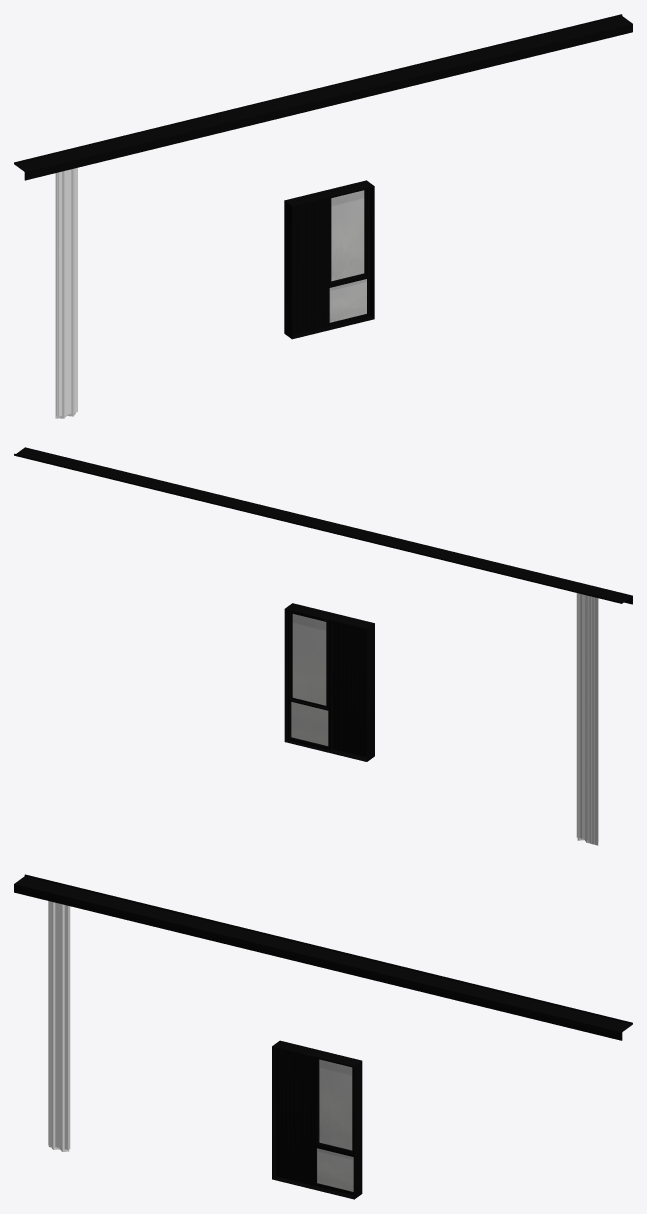
File: MatrixFachada copy.glb
3 views of the same model, one above another, from view 1: azimuth 30°, elevation 25°; view 2: azimuth 150°, elevation 25°; view 3: azimuth 330°, elevation 25° (orthographic).
Visible parts, largest first — view 1: Box006, Ventana2, Lamas2, Marco2, matriz2_j, matrix1_4, matriz2_i, matriz2_l; view 2: Box006, Ventana2, Lamas2, Marco2, matriz2_c, matrix1_4, matriz2_e, matrix1_7, matrix1_2, matriz2_j, matrix1_5, matriz2_n; view 3: Box006, Ventana2, Lamas2, Marco2, matriz2_j, matrix1_4, matriz2_i, matriz2_n, matriz2_c.
Boxes of the visible parts, x1=… form: Box006: x1=14, y1=14, x2=632, y2=180; Ventana2: x1=327, y1=187, x2=369, y2=326; Lamas2: x1=293, y1=198, x2=326, y2=335; Marco2: x1=284, y1=180, x2=374, y2=339; matriz2_j: x1=59, y1=167, x2=77, y2=414; matrix1_4: x1=58, y1=168, x2=75, y2=418; matriz2_i: x1=58, y1=170, x2=67, y2=416; matriz2_l: x1=58, y1=170, x2=71, y2=414; Box006: x1=14, y1=447, x2=632, y2=604; Ventana2: x1=287, y1=610, x2=332, y2=750; Lamas2: x1=333, y1=621, x2=366, y2=757; Marco2: x1=284, y1=603, x2=374, y2=761; matriz2_c: x1=577, y1=593, x2=587, y2=838; matrix1_4: x1=577, y1=593, x2=596, y2=845; matriz2_e: x1=581, y1=594, x2=587, y2=839; matrix1_7: x1=590, y1=596, x2=595, y2=844; matrix1_2: x1=587, y1=596, x2=596, y2=844; matriz2_j: x1=576, y1=593, x2=587, y2=839; matrix1_5: x1=591, y1=596, x2=598, y2=845; matriz2_n: x1=583, y1=595, x2=588, y2=840; Box006: x1=14, y1=874, x2=632, y2=1040; Ventana2: x1=313, y1=1057, x2=353, y2=1195; Lamas2: x1=276, y1=1048, x2=313, y2=1185; Marco2: x1=272, y1=1040, x2=362, y2=1199; matriz2_j: x1=49, y1=903, x2=69, y2=1149; matrix1_4: x1=51, y1=902, x2=69, y2=1151; matriz2_i: x1=49, y1=901, x2=57, y2=1147; matriz2_n: x1=49, y1=902, x2=61, y2=1147; matriz2_c: x1=69, y1=906, x2=70, y2=1148.
Size of the model in its own units: 9 by 3.65 by 0.4028.
4 materials, 1 textured.
